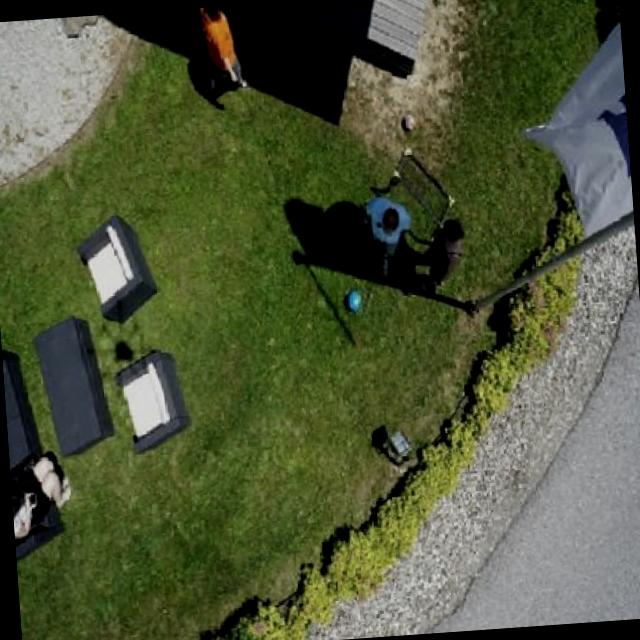Person: (357, 192, 420, 282), (200, 5, 251, 101), (411, 212, 472, 290)
